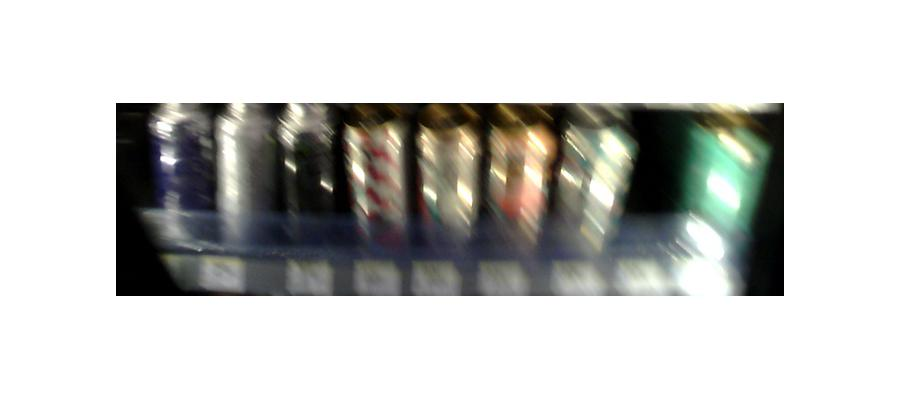bottle: (664, 110, 769, 290), (555, 113, 634, 291), (411, 107, 483, 273), (147, 95, 215, 252), (344, 106, 408, 261), (490, 109, 552, 258), (217, 99, 277, 249), (276, 102, 329, 238)
